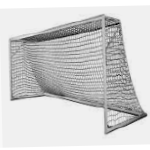goals: (7, 10, 149, 137)
